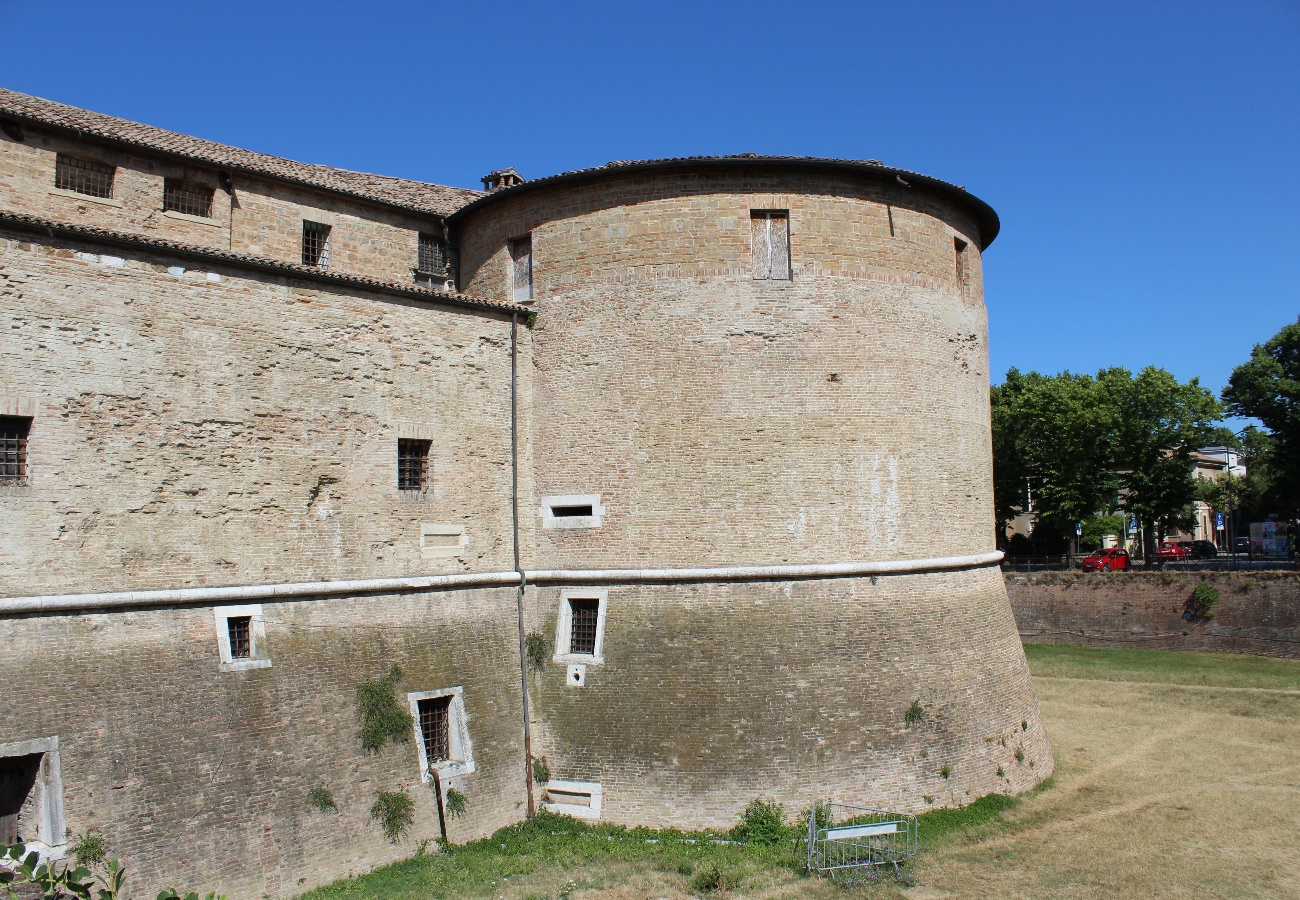Rocca Costanza: (1, 159, 1056, 814)
